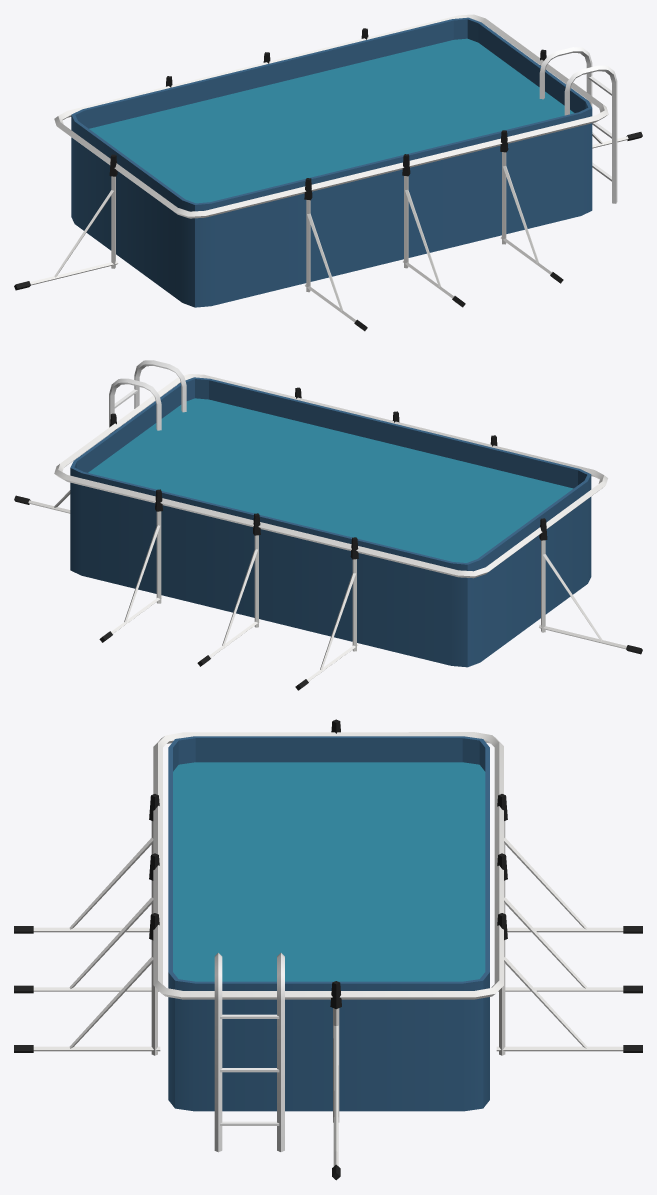
File: SM_swimming_pool.fbx
3 renders of one model, top to bottom at view 1: azimuth 30°, elevation 25°; view 2: azimuth 150°, elevation 25°; view 3: azimuth 270°, elevation 25°, orthographic. The views are drawn at different scales.
Visible parts, largest first — view 1: Box5735; view 2: Box5735; view 3: Box5735.
Boxes of the visible parts, x1=… form: Box5735: x1=14, y1=14, x2=642, y2=331; Box5735: x1=14, y1=360, x2=642, y2=690; Box5735: x1=14, y1=719, x2=642, y2=1180.
Bounding box in the file's own units: 310 × 67.56 × 217.
